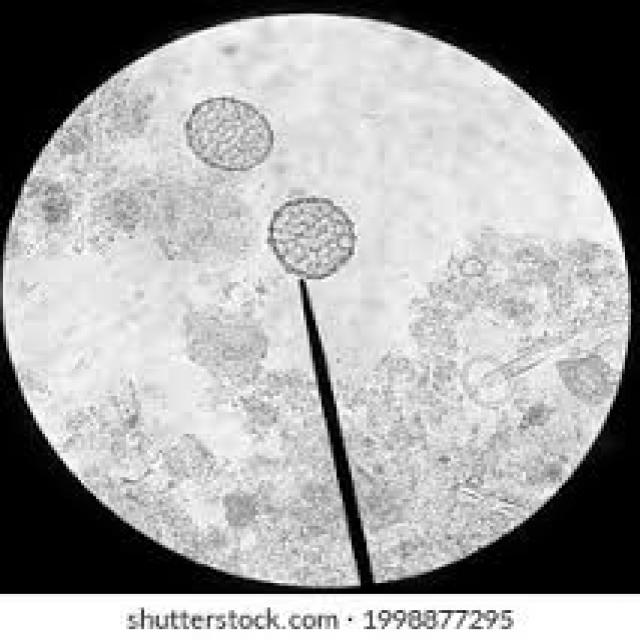Ascaris Lumbricoides: (263, 186, 359, 283), (180, 90, 276, 176)
